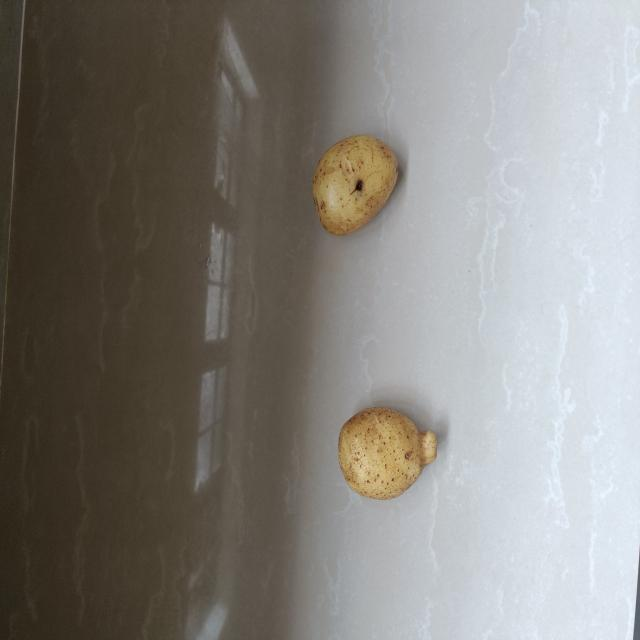potato: (306, 130, 407, 240), (332, 403, 441, 503)
